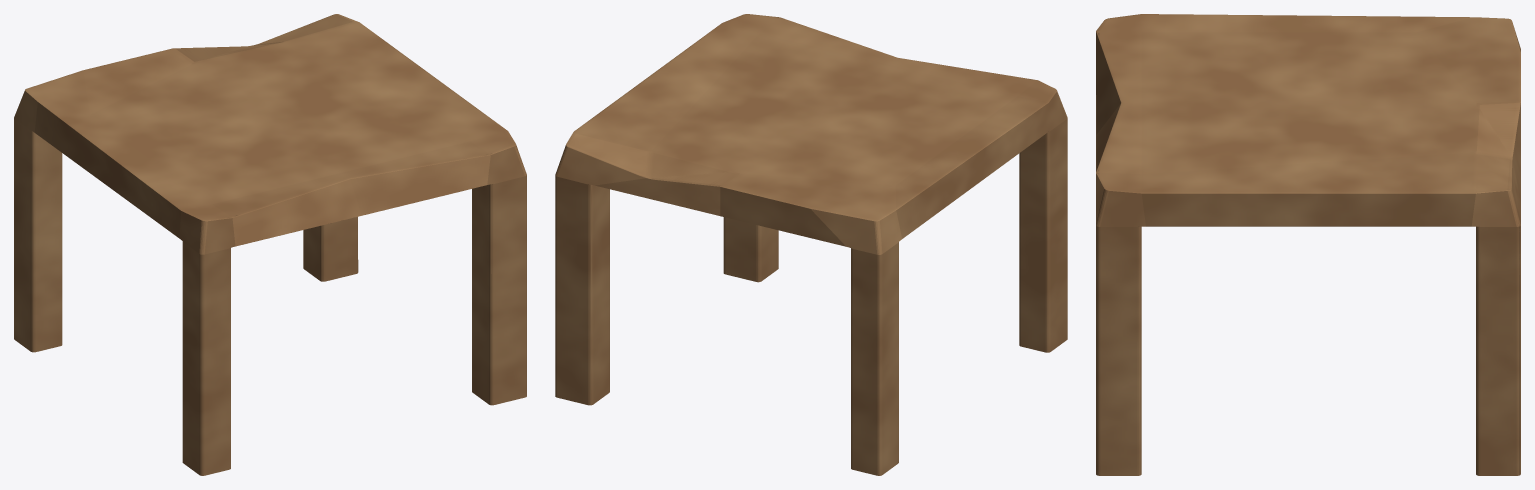
The model's file is Masa (2).fbx.
The picture shows the model from 3 angles, left to right: view 1: azimuth 30°, elevation 25°; view 2: azimuth 150°, elevation 25°; view 3: azimuth 270°, elevation 25°; orthographic projection. The views are drawn at different scales.
Visible parts, largest first — view 1: masa; view 2: masa; view 3: masa.
Boxes of the visible parts, left/top/right/bottom form: masa: left=14, top=14, right=526, bottom=475; masa: left=555, top=14, right=1067, bottom=475; masa: left=1096, top=14, right=1520, bottom=475.
Bounding box in the file's own units: 464 × 341 × 464.
